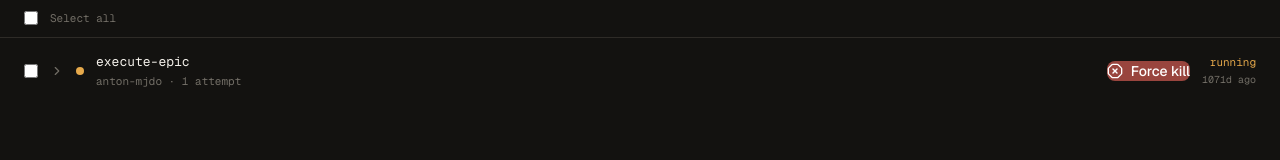
Test: Bulk kill bar › reports a failure when a 200 carries no readable buckets, rather than claiming a kill
The width and height of the screenshot is (1280, 160).
Click the checkbox labelled "Select all" at {"x": 31, "y": 18}, box 24,11 -> 38,25
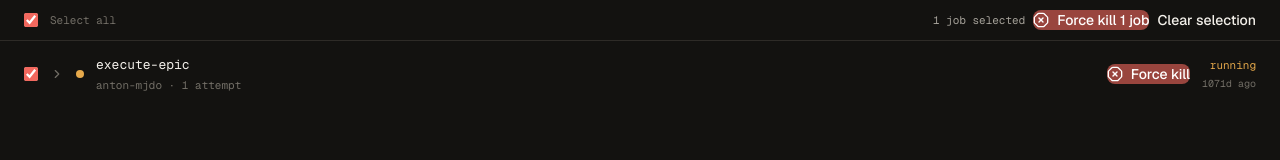
Click the button "Force kill 1 job" at {"x": 1091, "y": 20}, box 1033,10 -> 1150,30
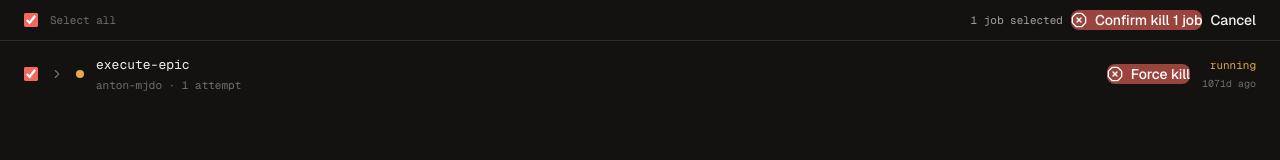
Click the button "Confirm kill 1 job" at {"x": 1137, "y": 20}, box 1071,10 -> 1202,30
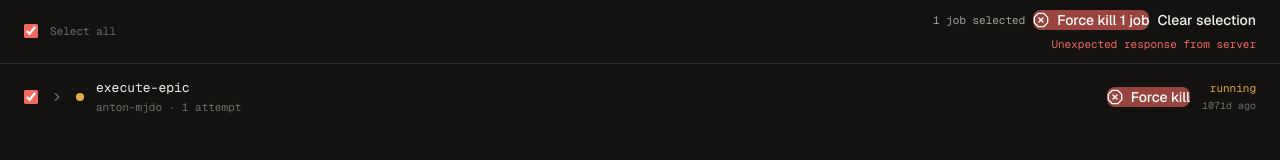
Expected: the text "running" is shown, 1210,80 -> 1256,96
Now the message shows "Unexpected", box 1051,37 -> 1256,51
